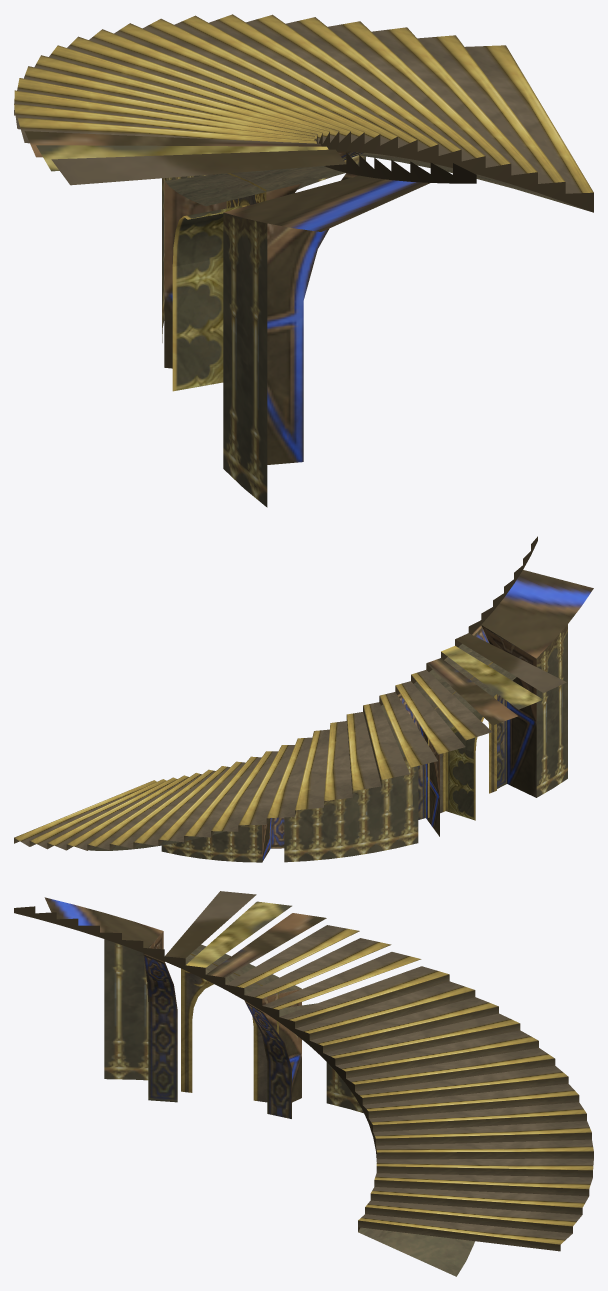
File: SM_Town012_LT.FBX
3 renders of one model, top to bottom at view 1: azimuth 30°, elevation 25°; view 2: azimuth 150°, elevation 25°; view 3: azimuth 270°, elevation 25°, orthographic. The views are drawn at different scales.
Visible parts, largest first — view 1: SM_Town012_LT; view 2: SM_Town012_LT; view 3: SM_Town012_LT.
Boxes of the visible parts, x1=… form: SM_Town012_LT: x1=14, y1=14, x2=593, y2=507; SM_Town012_LT: x1=14, y1=536, x2=593, y2=862; SM_Town012_LT: x1=14, y1=891, x2=593, y2=1276.
Size of the model in its own units: 1880 by 1015 by 2222.
2 materials, 2 textured.
